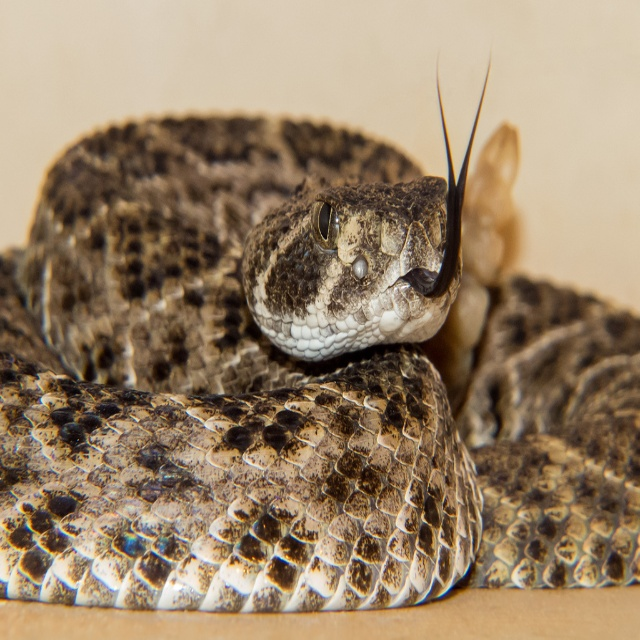Snake: (0, 38, 640, 611)
